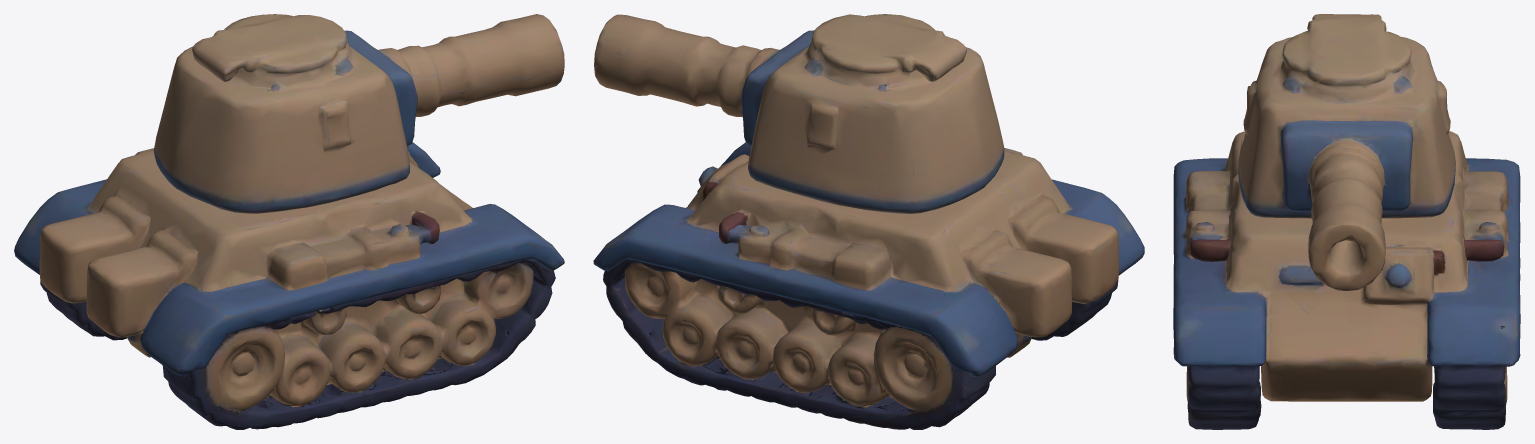
Rendered from tank-hi.glb.
The picture shows the model from 3 angles, left to right: view 1: azimuth 30°, elevation 25°; view 2: azimuth 150°, elevation 25°; view 3: azimuth 270°, elevation 25°; orthographic projection.
Parts seen in each view (by area): view 1: body; view 2: body; view 3: body.
Part boxes in pixels (x1=…): body: x1=14, y1=14, x2=564, y2=429; body: x1=593, y1=14, x2=1144, y2=429; body: x1=1173, y1=14, x2=1520, y2=429.
Size of the model in its own units: 3.98 by 2.6 by 2.5.
Materials: 1 (1 with a texture image).
